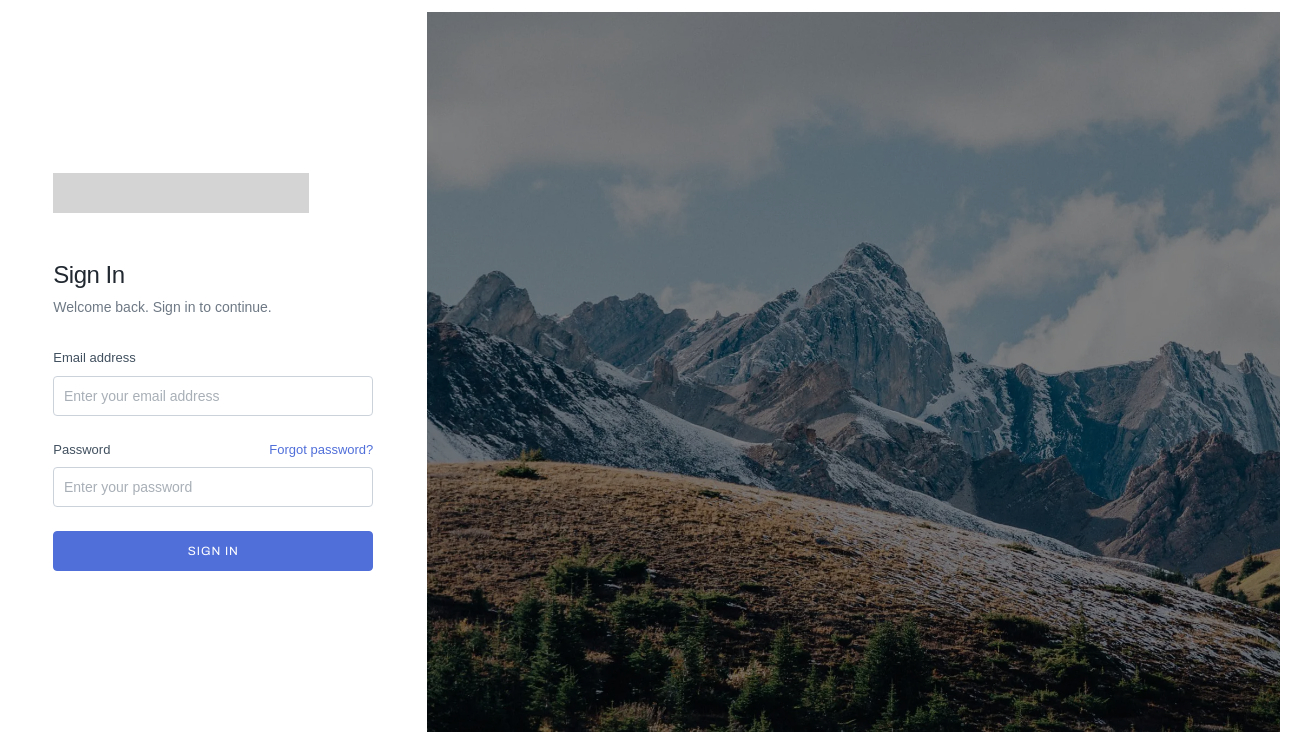
Test case: Login MFA challenge › shows a visible secondary action for returning to sign in
The image size is (1292, 732).
Type "owner@example.com" into the field labelled "Email address" at (213,396), box [53,376,373,416]
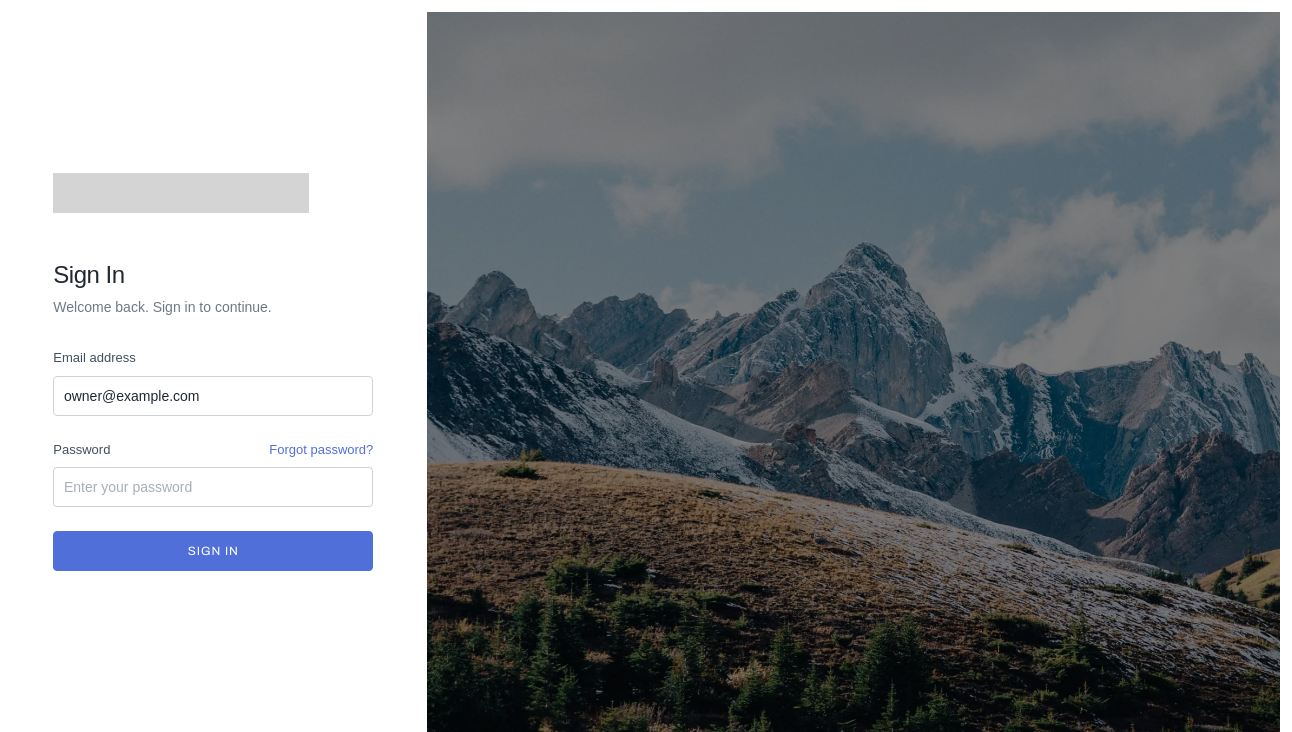
Type "valid-password" into the password field labelled "Password Forgot password?" at (213,487), box [53,467,373,507]
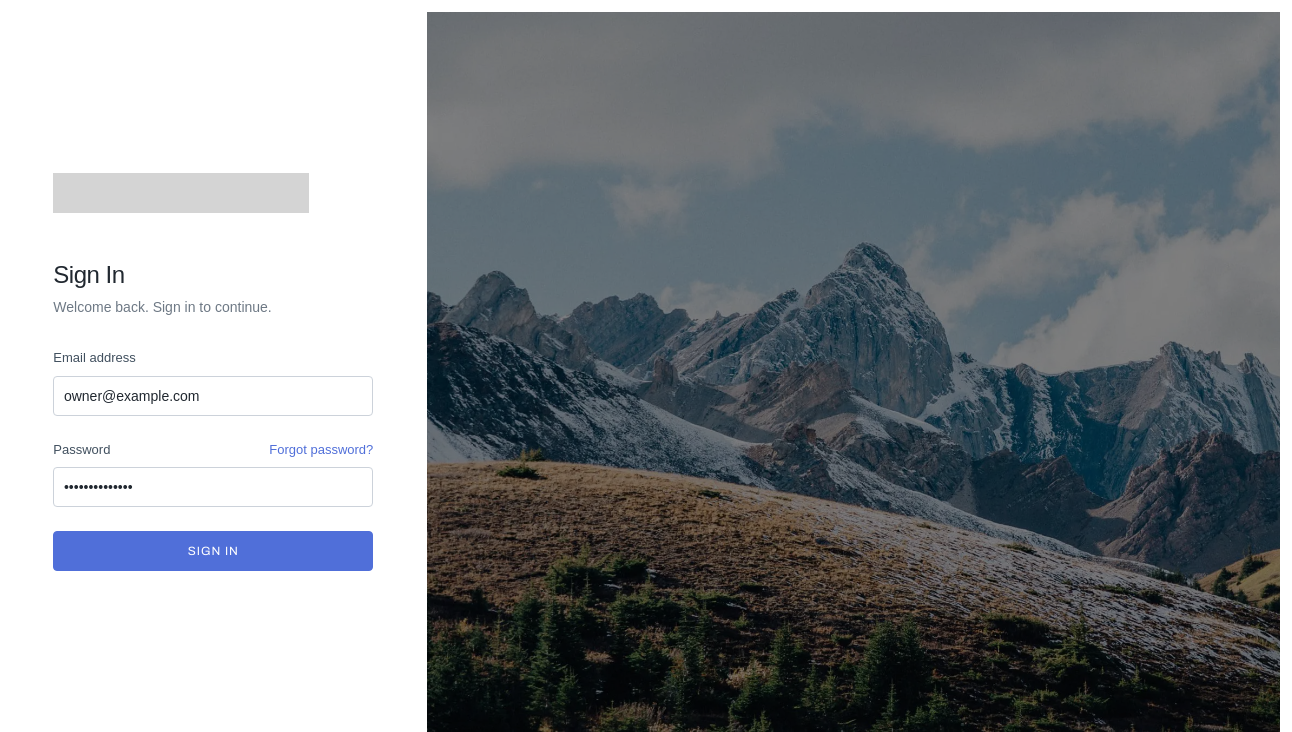
Click the button "Sign In" at (213,551), box [53,531,373,571]
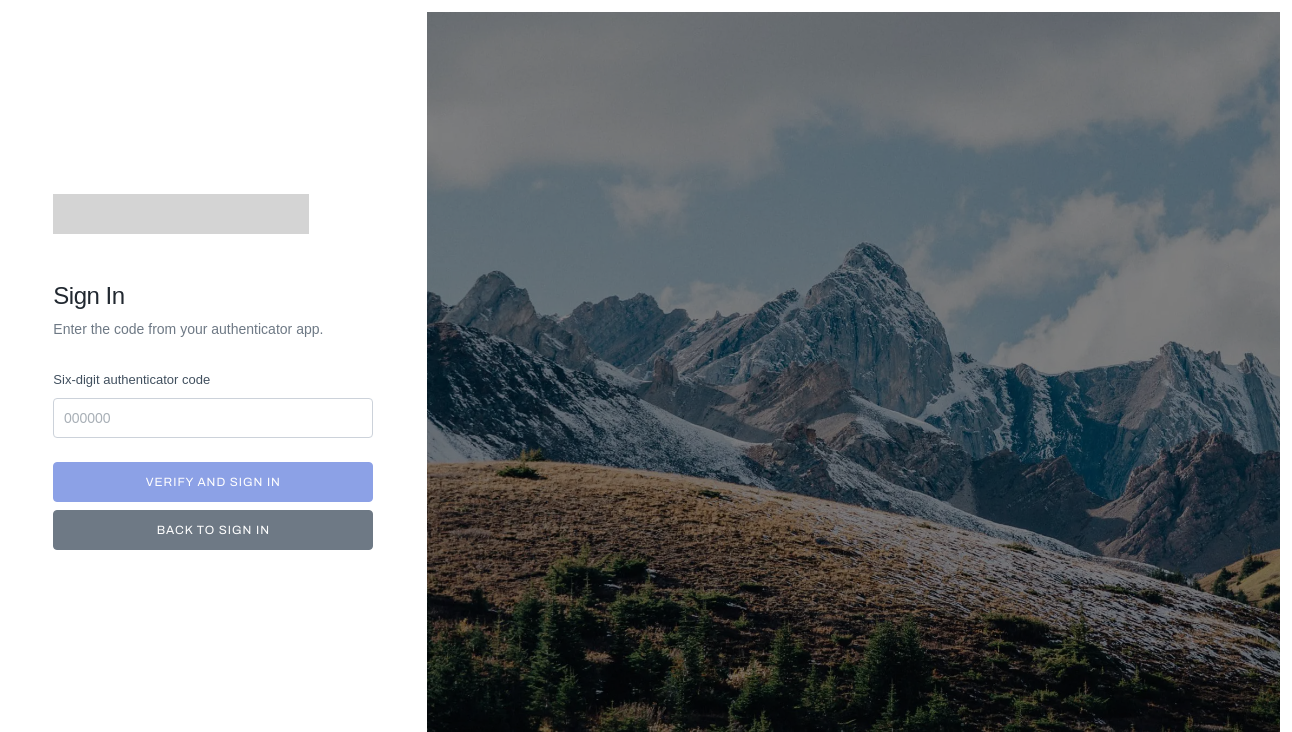
Expected: the field labelled "Six-digit authenticator code" is shown, [53,398,373,438]
Expected: the button "Back to sign in" is shown, [53,510,373,550]
